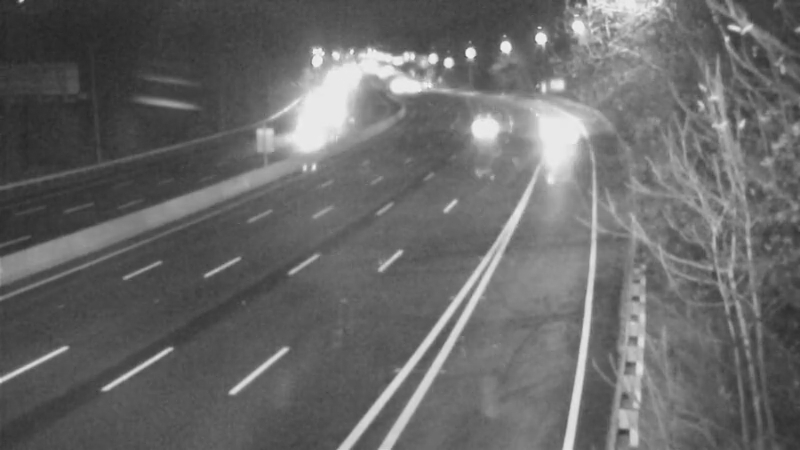vehicle: (527, 111, 577, 161), (458, 103, 508, 153), (279, 109, 329, 159)
